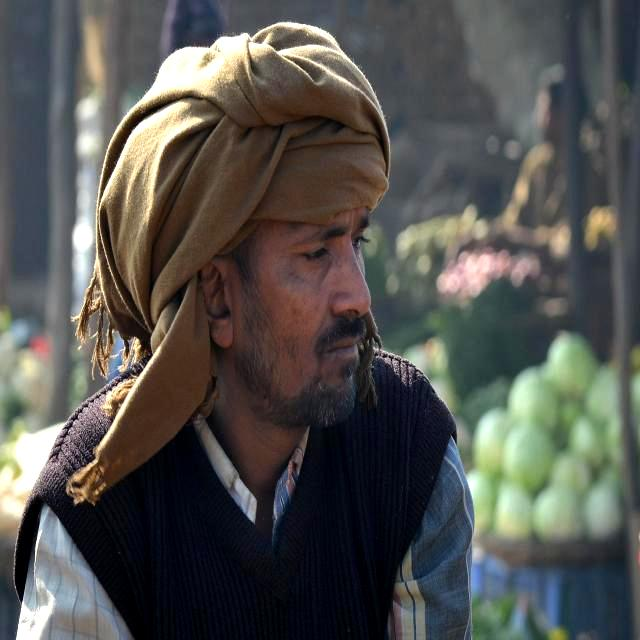no_hard_hat: (68, 23, 390, 503)
person: (16, 205, 473, 638)
